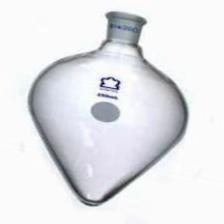Pear shaped flask: (26, 17, 189, 207)
